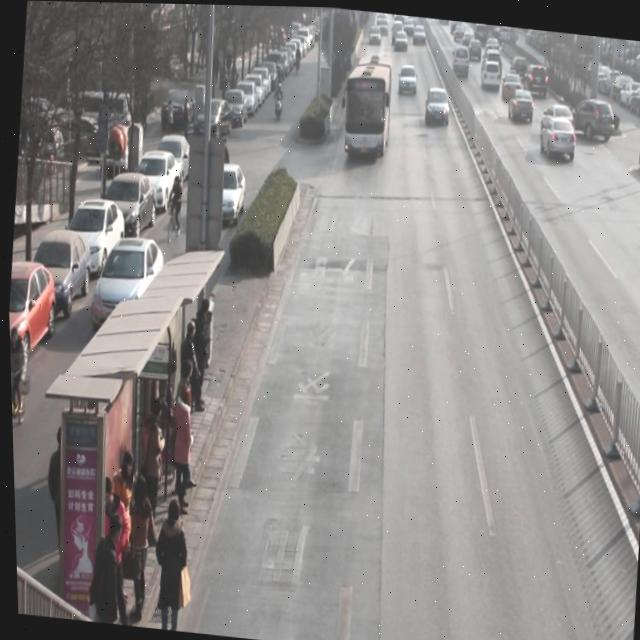car: (84, 231, 167, 330), (200, 155, 249, 223), (568, 94, 616, 142), (537, 115, 576, 159), (422, 84, 452, 123), (506, 86, 535, 120), (523, 61, 550, 93), (396, 61, 418, 95), (540, 99, 574, 119), (479, 58, 502, 86), (500, 69, 521, 96), (393, 27, 409, 52), (411, 22, 427, 46), (467, 35, 482, 60), (367, 23, 381, 47), (510, 53, 527, 72), (473, 21, 487, 40), (484, 46, 501, 60), (485, 33, 498, 47), (462, 30, 473, 41)
truck: (450, 42, 471, 74)
van: (339, 50, 395, 160)
